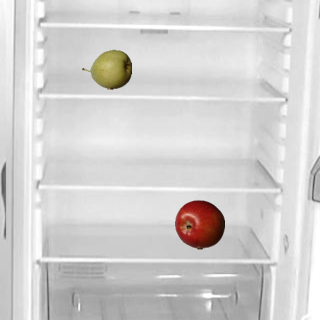Apple Braeburn: (174, 199, 224, 249)
Pear: (81, 44, 131, 94)
